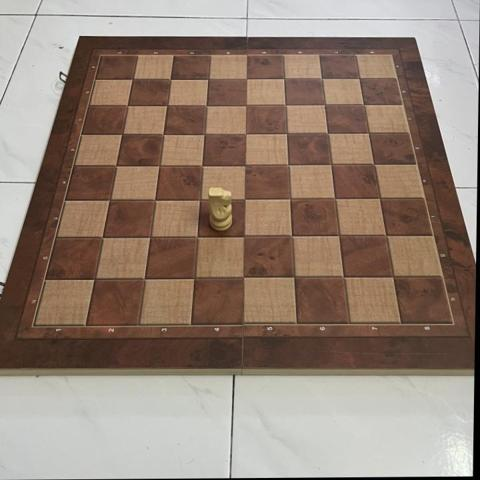xcorner: (349, 69, 367, 87), (311, 69, 329, 87), (273, 69, 291, 87), (156, 96, 174, 114), (317, 124, 335, 142), (276, 124, 294, 142), (324, 189, 342, 207), (281, 227, 299, 245), (139, 227, 157, 245), (92, 227, 110, 245), (383, 268, 401, 286), (333, 268, 351, 286), (283, 268, 301, 286), (233, 268, 251, 286), (134, 268, 152, 286), (235, 70, 253, 87), (197, 70, 215, 87), (314, 96, 332, 113), (235, 96, 253, 113), (117, 96, 134, 114), (359, 124, 376, 142), (235, 124, 252, 142), (194, 124, 211, 142), (364, 155, 381, 173), (321, 155, 338, 173), (278, 155, 295, 173), (370, 189, 387, 207), (279, 190, 297, 207), (234, 190, 252, 207), (189, 190, 207, 207), (144, 190, 162, 207), (99, 190, 117, 207), (376, 227, 394, 244), (234, 227, 251, 245), (187, 227, 204, 245), (184, 268, 201, 286), (84, 269, 102, 286), (160, 70, 177, 87), (122, 70, 139, 87), (354, 96, 371, 113), (275, 96, 292, 113), (196, 96, 213, 113), (153, 125, 170, 142), (112, 125, 129, 142), (235, 156, 252, 173), (192, 156, 209, 173), (149, 156, 166, 173), (106, 156, 123, 173), (329, 227, 346, 244)
